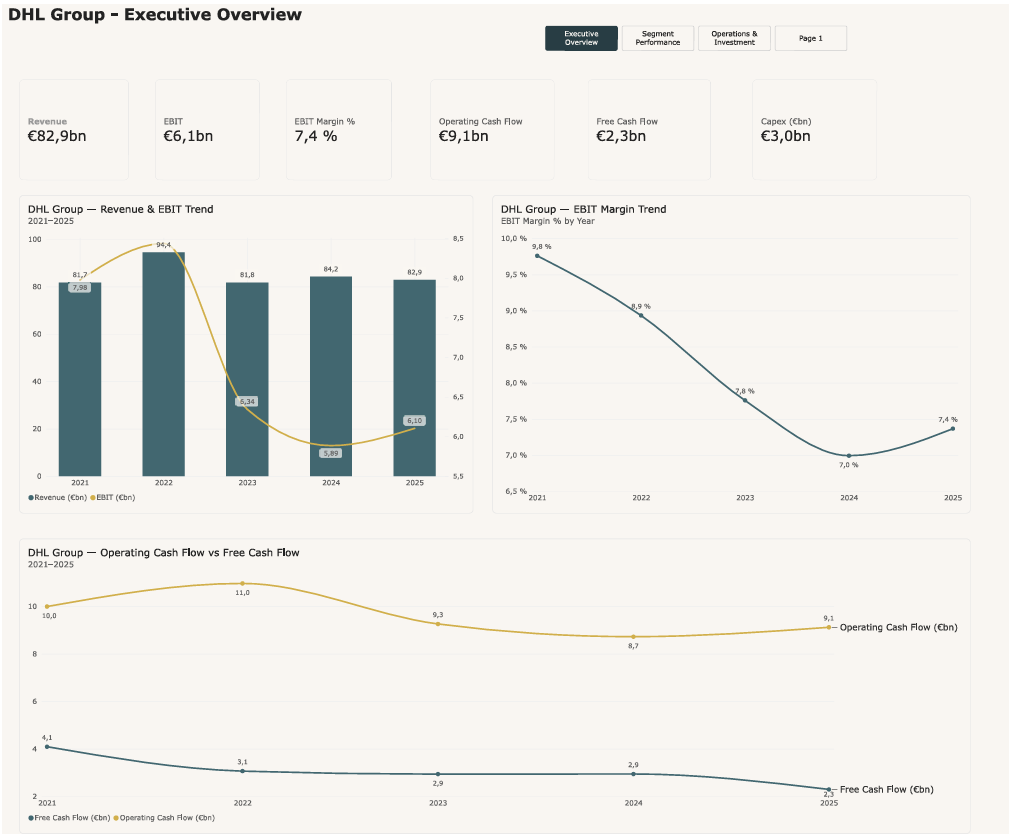

This screenshot's page, from the dashboard's own definition file:
{"tool":"powerbi","page":{"name":"Executive Overview","canvas":[2000,1650],"ordinal":0},"visuals":[{"type":"textbox","box":[10,0,810,82.5],"z":0},{"type":"cardVisual","fields":{"Data":["GroupFinancials.Revenue (€bn)"]},"box":[33.3,150,216.7,200],"z":1000},{"type":"cardVisual","fields":{"Data":["GroupFinancials.EBIT Margin %"]},"box":[563.3,150,210,200],"z":2000},{"type":"cardVisual","fields":{"Data":["GroupFinancials.EBIT (€bn)"]},"box":[303.3,150,206.7,200],"z":3000},{"type":"cardVisual","fields":{"Data":["GroupFinancials.Operating Cash Flow (€bn)"]},"box":[850,150,246,200],"z":4000},{"type":"cardVisual","fields":{"Data":["GroupFinancials.Free Cash Flow (€bn)"]},"box":[1163.3,150,243.3,200],"z":5000},{"type":"cardVisual","fields":{"Data":["GroupFinancials.Capex (€bn)"]},"box":[1490,150,246.7,200],"z":6000},{"type":"lineClusteredColumnComboChart","title":"DHL Group — Revenue & EBIT Trend","fields":{"Category":["DimYear.Year"],"Y":["GroupFinancials.Revenue (€bn)"],"Y2":["GroupFinancials.EBIT (€bn)"]},"box":[32.5,380,902.5,632.5],"z":7000},{"type":"lineChart","title":"DHL Group — EBIT Margin Trend","fields":{"Category":["DimYear.Year"],"Y":["GroupFinancials.EBIT Margin %"]},"box":[972.5,380,950,632.5],"z":8000},{"type":"lineChart","title":"DHL Group — Operating Cash Flow vs Free Cash Flow","fields":{"Category":["DimYear.Year"],"Y":["GroupFinancials.Free Cash Flow (€bn)","GroupFinancials.Operating Cash Flow (€bn)"]},"box":[32.5,1062.5,1890,587.5],"z":9000},{"type":"pageNavigator","box":[1077.5,42.5,600,50],"z":10000}]}

Visuals, with their boxes in screenshot pixels (x1, y1, x2, y2), scaled from the page's 2000x1650 canvas onto the 1011x835 screenshot:
textbox: l=5, t=0, r=415, b=42
cardVisual - GroupFinancials.Revenue (€bn): l=17, t=76, r=126, b=177
cardVisual - GroupFinancials.EBIT Margin %: l=285, t=76, r=391, b=177
cardVisual - GroupFinancials.EBIT (€bn): l=153, t=76, r=258, b=177
cardVisual - GroupFinancials.Operating Cash Flow (€bn): l=430, t=76, r=554, b=177
cardVisual - GroupFinancials.Free Cash Flow (€bn): l=588, t=76, r=711, b=177
cardVisual - GroupFinancials.Capex (€bn): l=753, t=76, r=878, b=177
"DHL Group — Revenue & EBIT Trend" lineClusteredColumnComboChart: l=16, t=192, r=473, b=512
"DHL Group — EBIT Margin Trend" lineChart: l=492, t=192, r=972, b=512
"DHL Group — Operating Cash Flow vs Free Cash Flow" lineChart: l=16, t=538, r=972, b=834
pageNavigator: l=545, t=22, r=848, b=47
